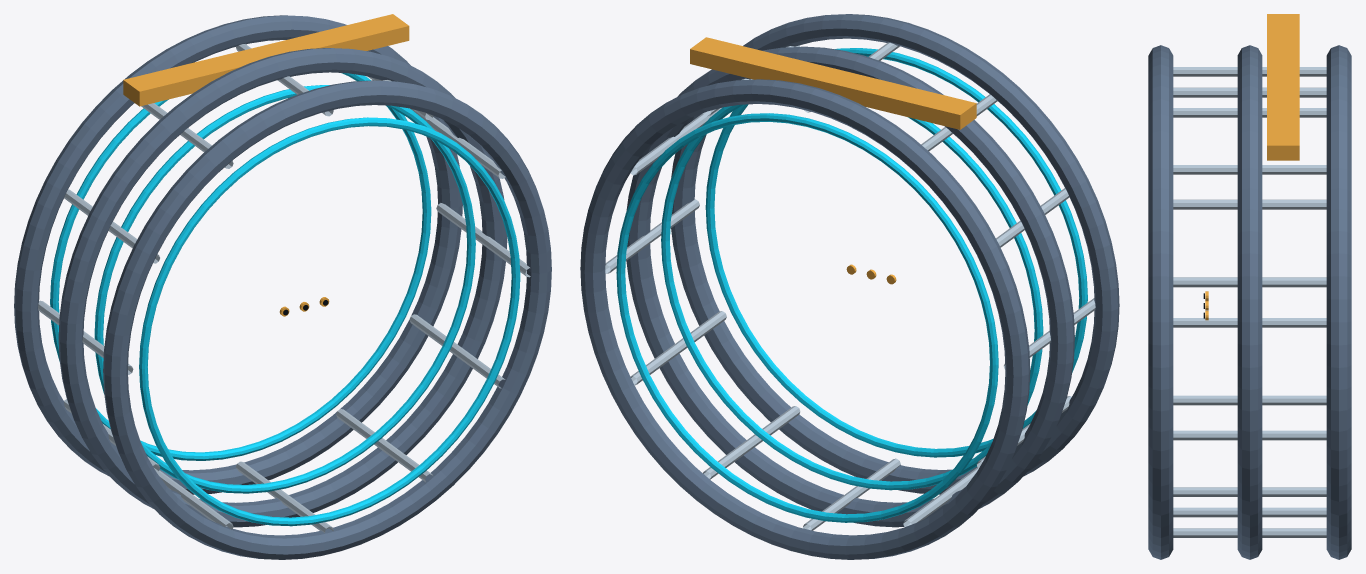
The model's file is 05_L90_ThrusterPlasmaTestChamber.fbx.
3 views of the same model, side by side, from view 1: azimuth 30°, elevation 25°; view 2: azimuth 150°, elevation 25°; view 3: azimuth 270°, elevation 25° (orthographic).
Visible parts, largest first — view 1: L90_ThrusterPlasmaTestChamber, L90_ThrusterPlasmaTestChamber_Part_0003; view 2: L90_ThrusterPlasmaTestChamber, L90_ThrusterPlasmaTestChamber_Part_0003; view 3: L90_ThrusterPlasmaTestChamber, L90_ThrusterPlasmaTestChamber_Part_0003.
Part boxes in pixels (x1=…): L90_ThrusterPlasmaTestChamber: x1=14, y1=15, x2=551, y2=559; L90_ThrusterPlasmaTestChamber_Part_0003: x1=123, y1=14, x2=409, y2=106; L90_ThrusterPlasmaTestChamber: x1=580, y1=14, x2=1119, y2=559; L90_ThrusterPlasmaTestChamber_Part_0003: x1=690, y1=37, x2=976, y2=129; L90_ThrusterPlasmaTestChamber: x1=1148, y1=45, x2=1351, y2=559; L90_ThrusterPlasmaTestChamber_Part_0003: x1=1267, y1=14, x2=1299, y2=160.
Size of the model in its own units: 694 by 693 by 273.
